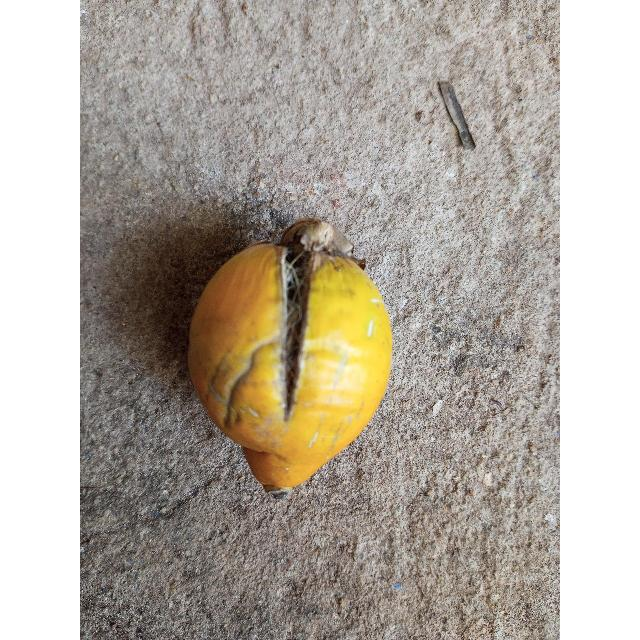damaged: (188, 218, 392, 496)
